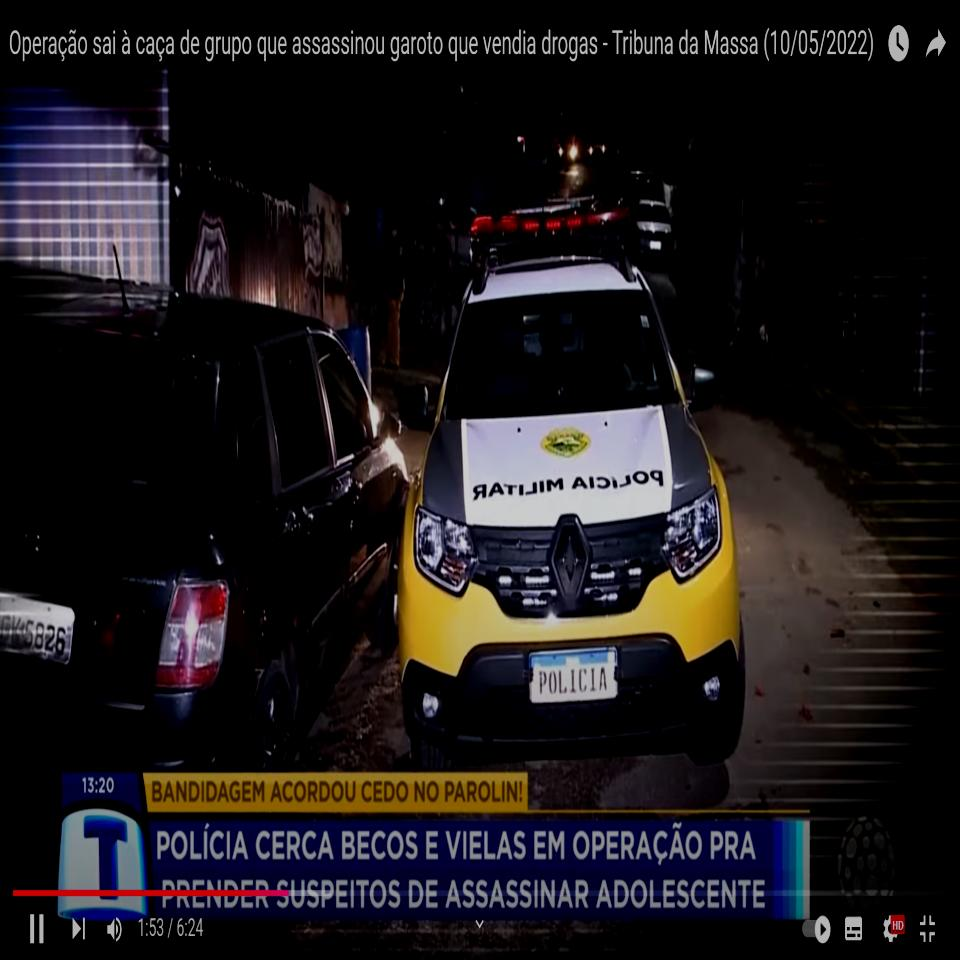viatura: (394, 208, 748, 765)
